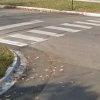Crosswalk: (5, 15, 100, 45)
